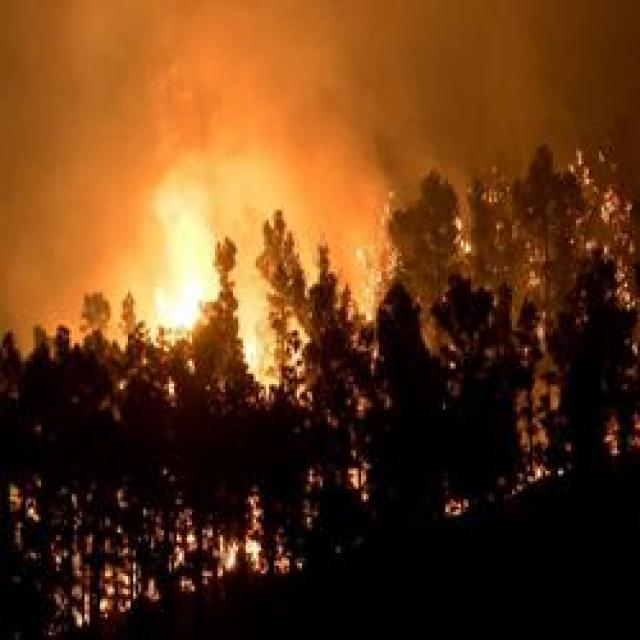fire: (137, 146, 329, 396)
